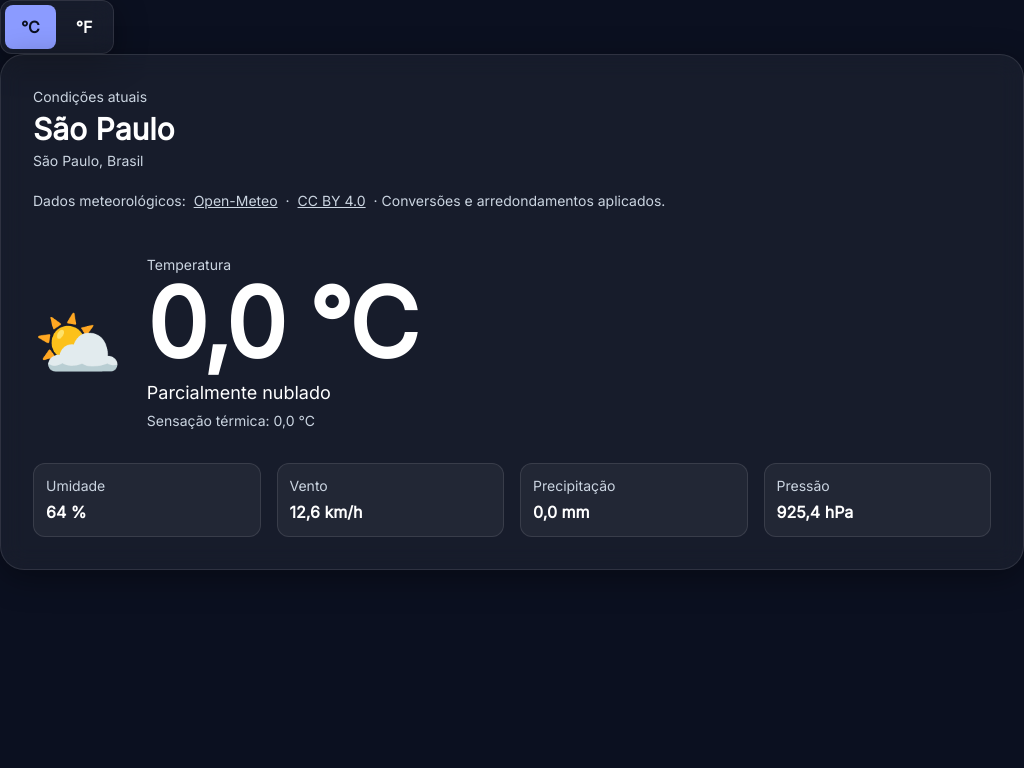
UnitToggle › converte 0 °C para 32 °F no painel ao selecionar a unidade e permite voltar
Expected: the button "°C" is shown, x1=5 y1=5 x2=56 y2=49
Expected: the text "0,0 °C" is shown, x1=147 y1=275 x2=416 y2=371
Click the button "°F".
click(84, 27)  # box x1=60 y1=5 x2=108 y2=49
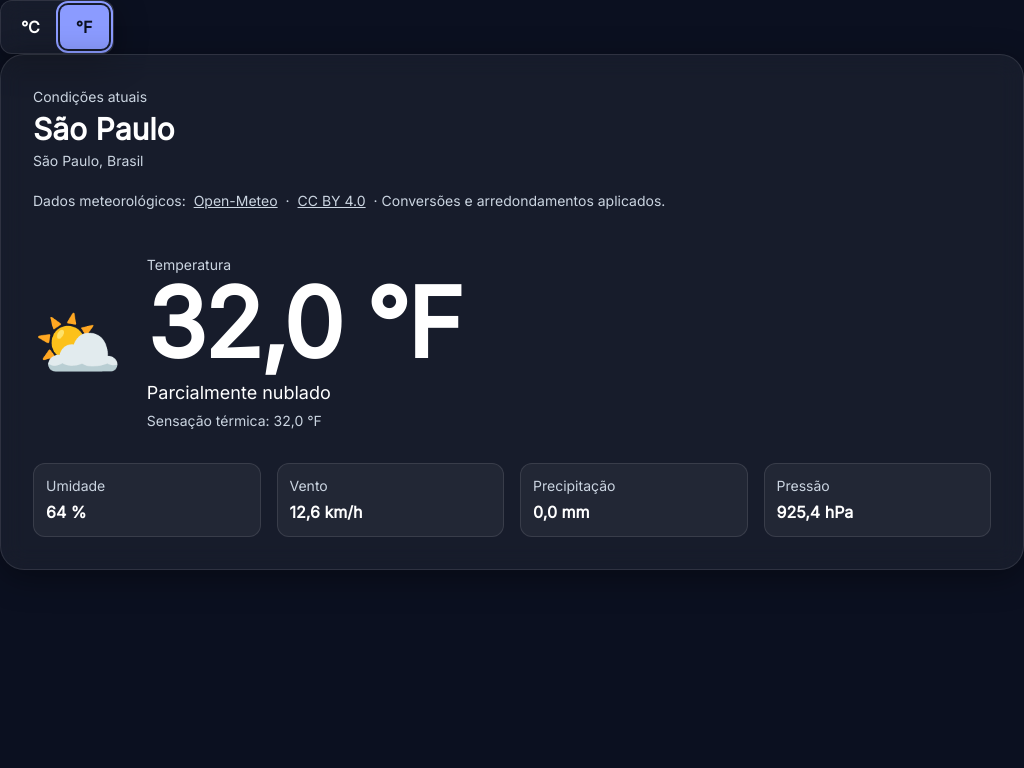
Expected: the text "32,0 °F" is shown, x1=147 y1=275 x2=461 y2=371
Expected: the text "Sensação térmica: 32,0 °F" is shown, x1=147 y1=412 x2=322 y2=429
Expected: the text "0,0 °C" is gone
Click the button "°C".
click(30, 27)  # box x1=5 y1=5 x2=56 y2=49
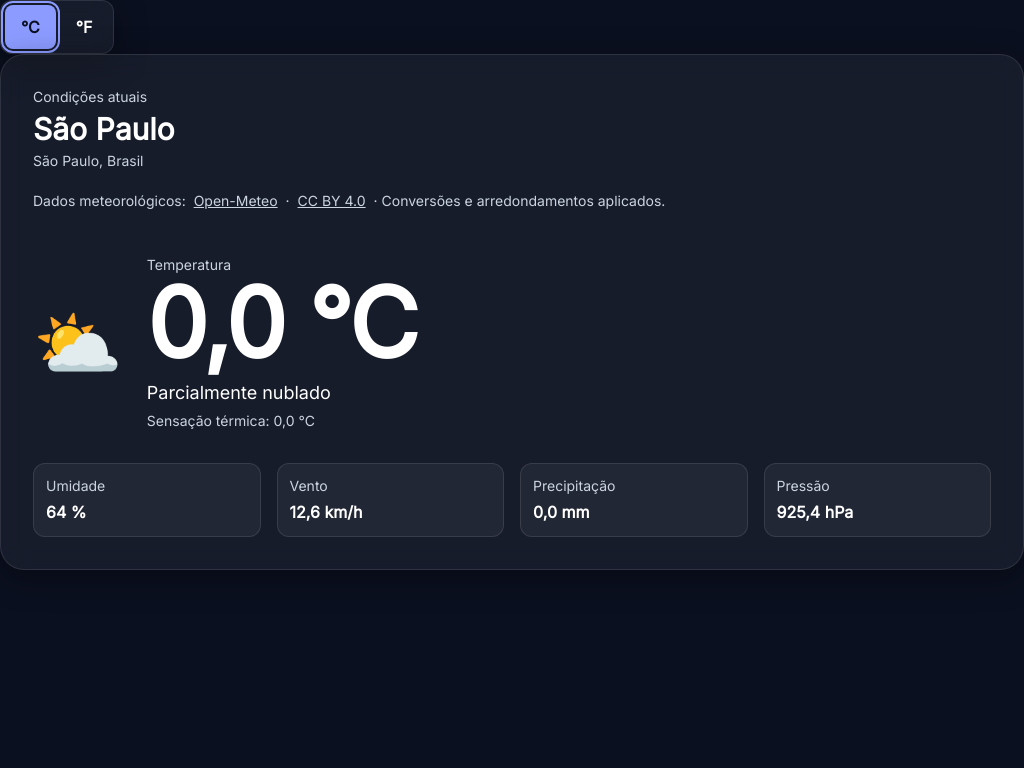
Expected: the text "0,0 °C" is shown, x1=147 y1=275 x2=416 y2=371
Expected: the text "Sensação térmica: 0,0 °C" is shown, x1=147 y1=412 x2=315 y2=429
Expected: the text "32,0 °F" is gone
